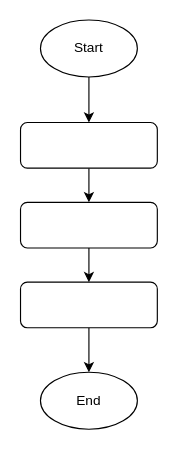
This 177x449 diagram has some shape labels left out. The centre of each missing label's shape, as x and y in pixels:
Fill out information: the point at 88,144
Payment method: the point at 88,304
